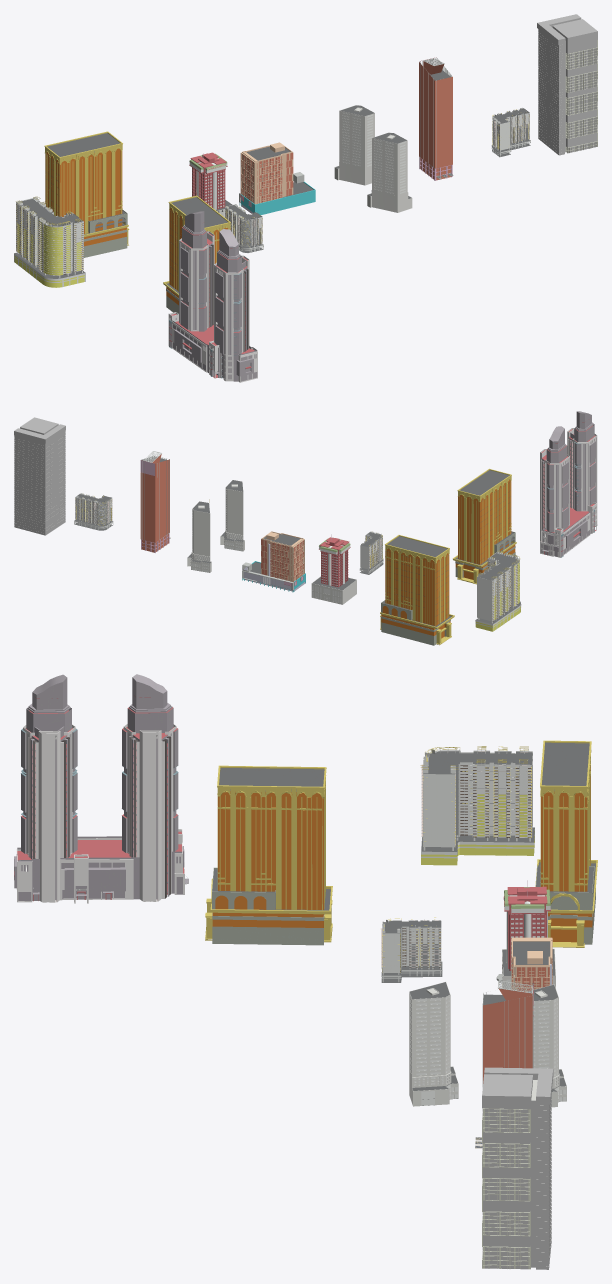
The picture shows the model from 3 angles, top to bottom: view 1: azimuth 30°, elevation 25°; view 2: azimuth 150°, elevation 25°; view 3: azimuth 270°, elevation 25°; orthographic projection. The views are drawn at different scales.
Parts seen in each view (by area): view 1: 玻璃asad3; view 2: 玻璃asad3; view 3: 玻璃asad3.
Part boxes in pixels (x1,y1,x2,y2): 玻璃asad3: [14, 14, 597, 382]; 玻璃asad3: [14, 411, 597, 645]; 玻璃asad3: [14, 674, 597, 1269].
Size of the model in its own units: 830 by 207 by 493.
Materials: 3 (3 with a texture image).
